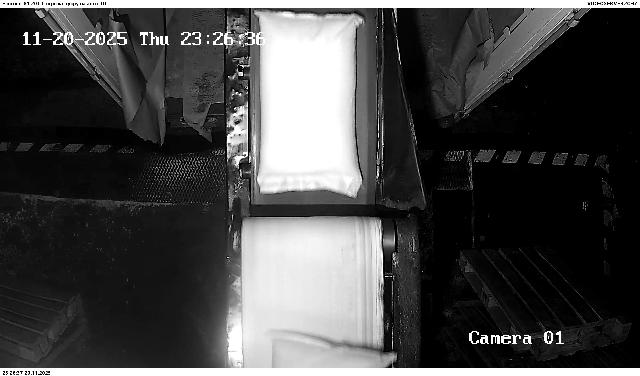bag: (253, 11, 364, 199), (269, 333, 399, 369)
